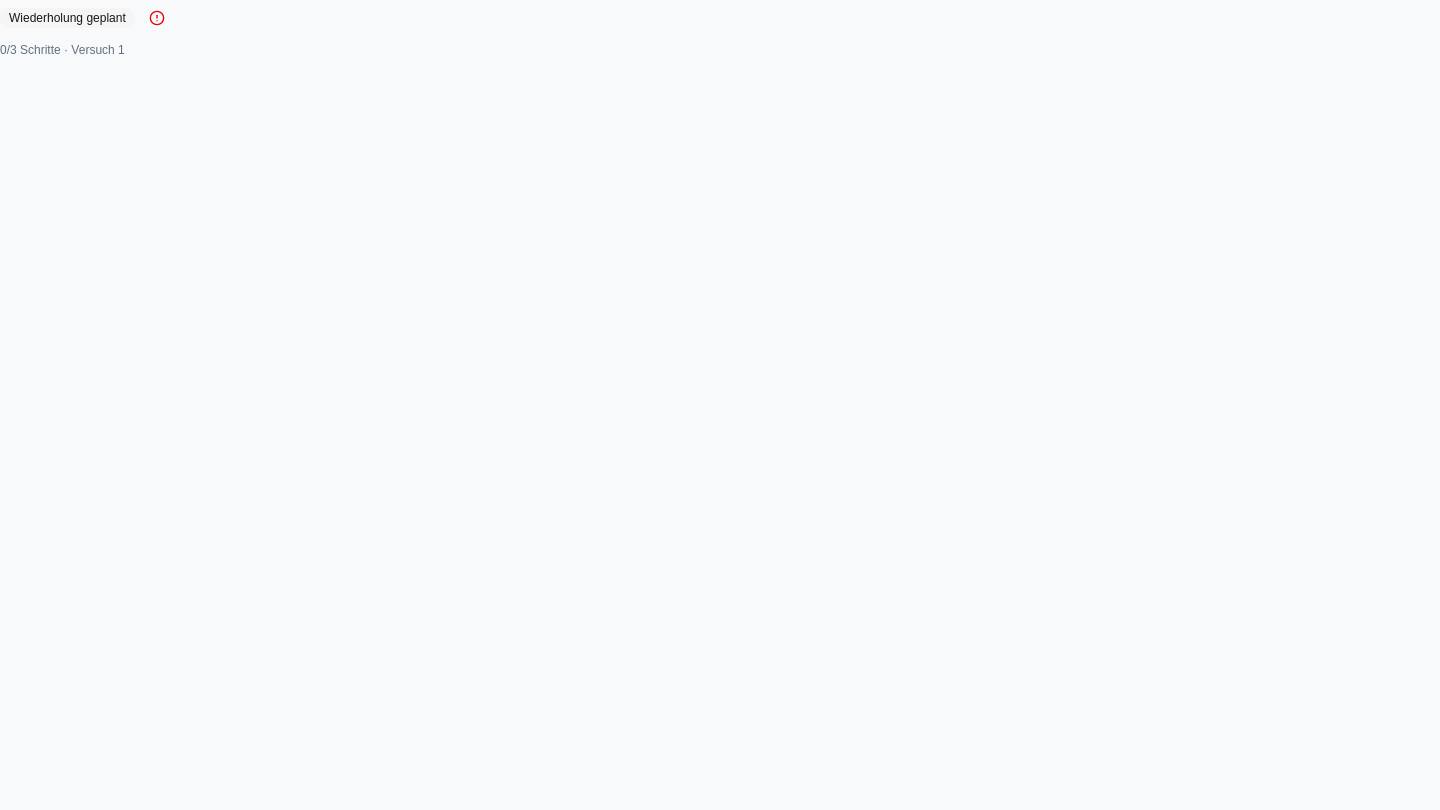
it: distinguishes a queued retry and shows its error in the details popover
The image size is (1440, 810).
Expected: the text "Letzter Fehler: Timeout after 300s" is not shown
Click the button named "Fehlerdetails anzeigen".
click(157, 18)  # box x1=139 y1=0 x2=175 y2=36
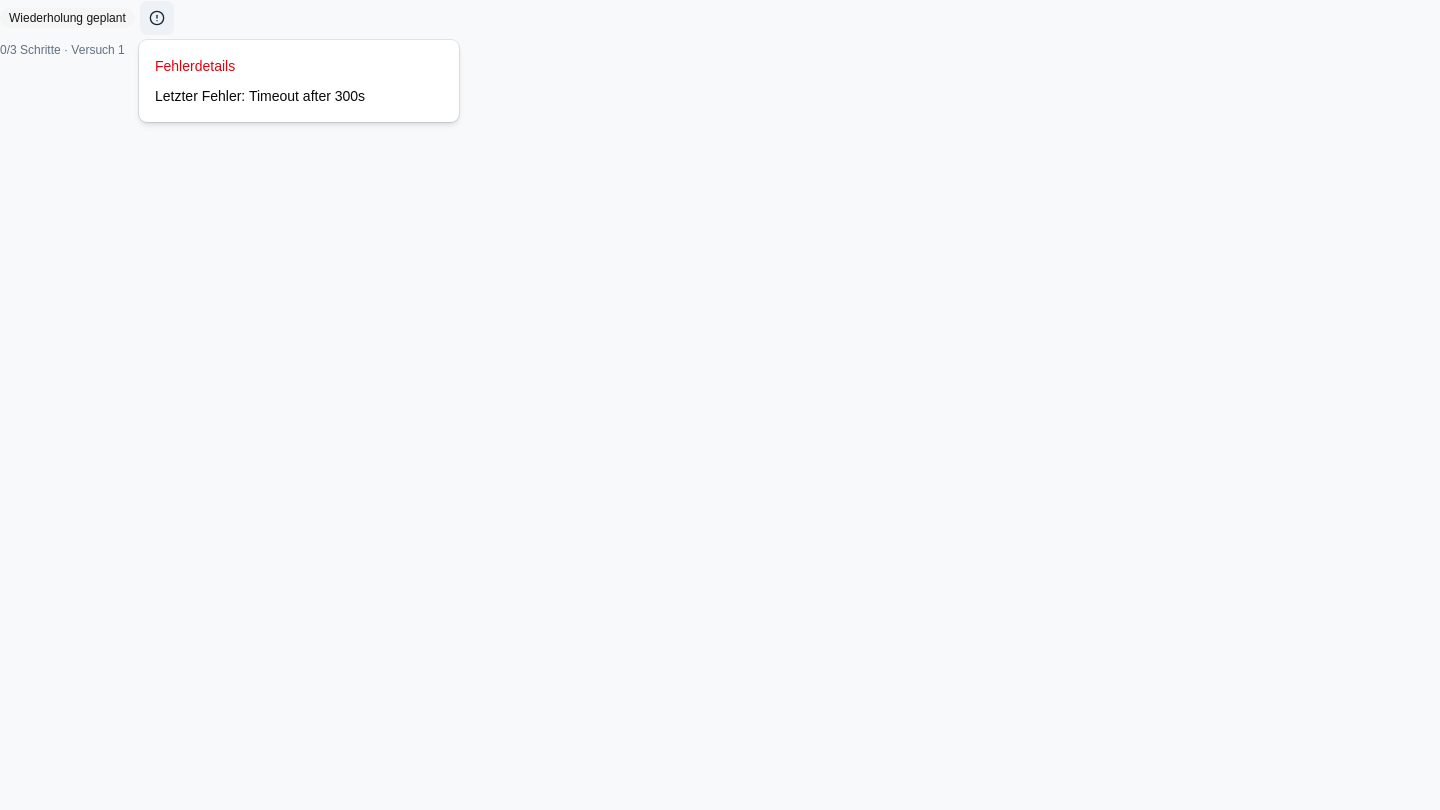
Expected: the text "Letzter Fehler: Timeout after 300s" is shown, x1=155 y1=88 x2=365 y2=104
